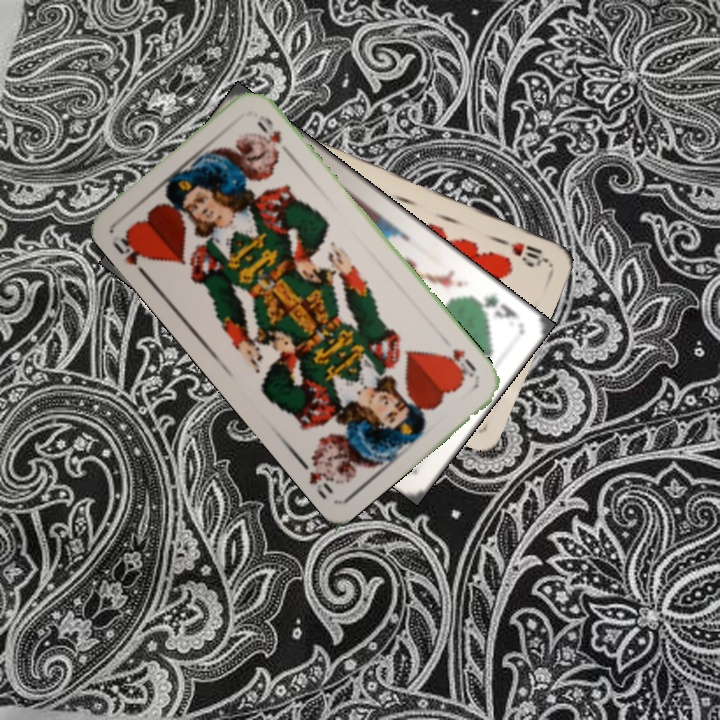GK: (468, 290, 521, 322)
H10: (493, 234, 550, 269)
HO: (108, 226, 153, 280), (440, 345, 481, 382)
